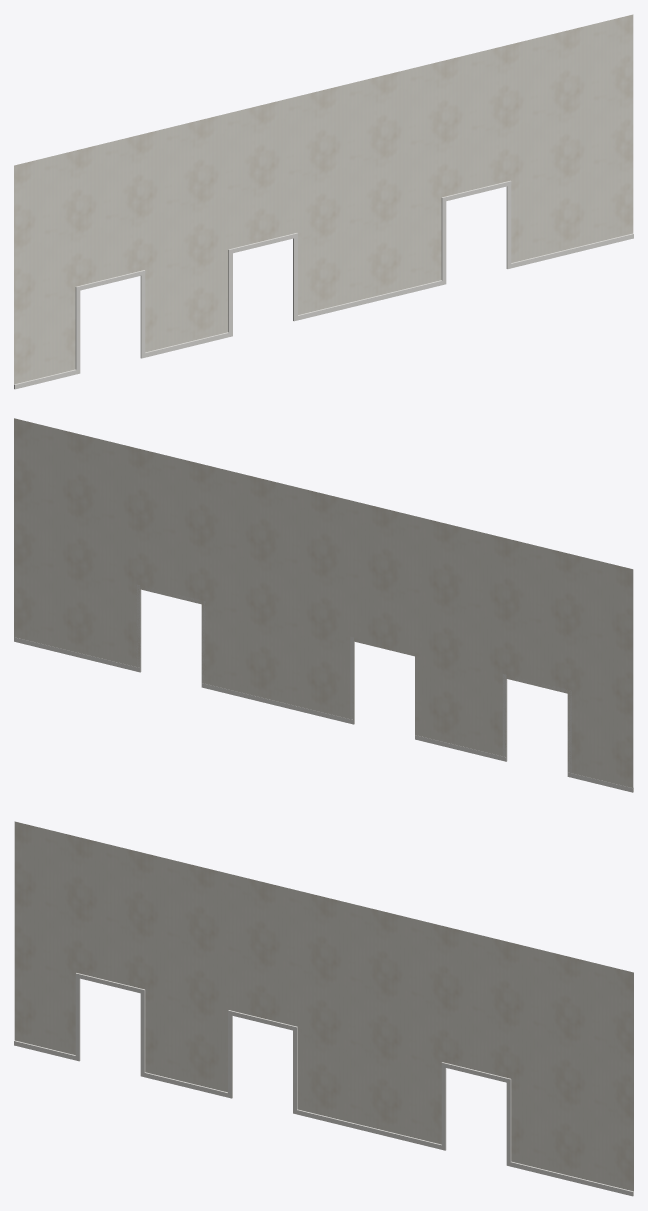
3 views of the same model, one above another, from view 1: azimuth 30°, elevation 25°; view 2: azimuth 150°, elevation 25°; view 3: azimuth 330°, elevation 25° (orthographic).
Parts seen in each view (by area): view 1: jx_wm_20_9a4420d2; view 2: jx_wm_20_9a4420d2; view 3: jx_wm_20_9a4420d2.
Boxes of the visible parts, box(x1,y1,x2,y2) form: jx_wm_20_9a4420d2: box(14, 14, 633, 389); jx_wm_20_9a4420d2: box(14, 418, 633, 792); jx_wm_20_9a4420d2: box(14, 821, 633, 1196).
Bounding box in the file's own units: 20.3 × 7 × 0.05.
Materials: 2 (2 with a texture image).
